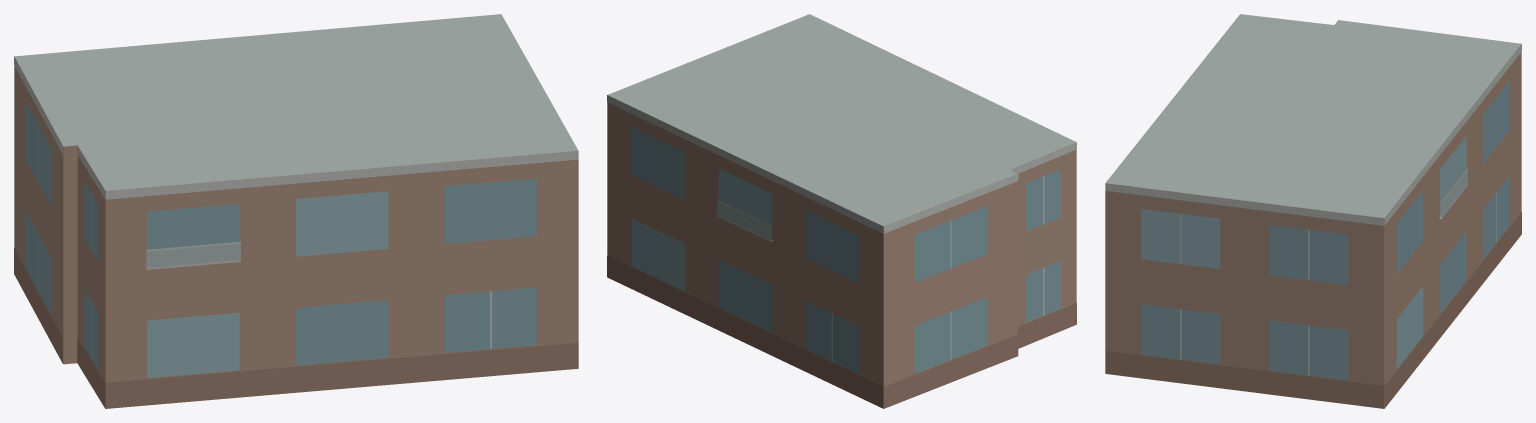
File: survey-upis-32682195.glb
The picture shows the model from 3 angles, left to right: view 1: azimuth 30°, elevation 25°; view 2: azimuth 150°, elevation 25°; view 3: azimuth 270°, elevation 25°; orthographic projection. The views are drawn at different scales.
Visible parts, largest first — view 1: survey-upis-32682195.tmp; view 2: survey-upis-32682195.tmp; view 3: survey-upis-32682195.tmp.
Part boxes in pixels (x1,y1,x2,y2): survey-upis-32682195.tmp: [14, 14, 578, 408]; survey-upis-32682195.tmp: [607, 14, 1076, 408]; survey-upis-32682195.tmp: [1105, 14, 1521, 408].
Bounding box in the file's own units: 14.03 × 6.1 × 12.09.
